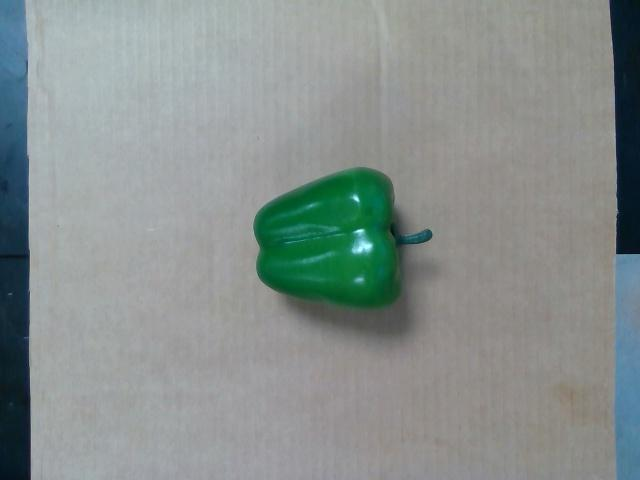green paprika: (253, 165, 431, 311)
